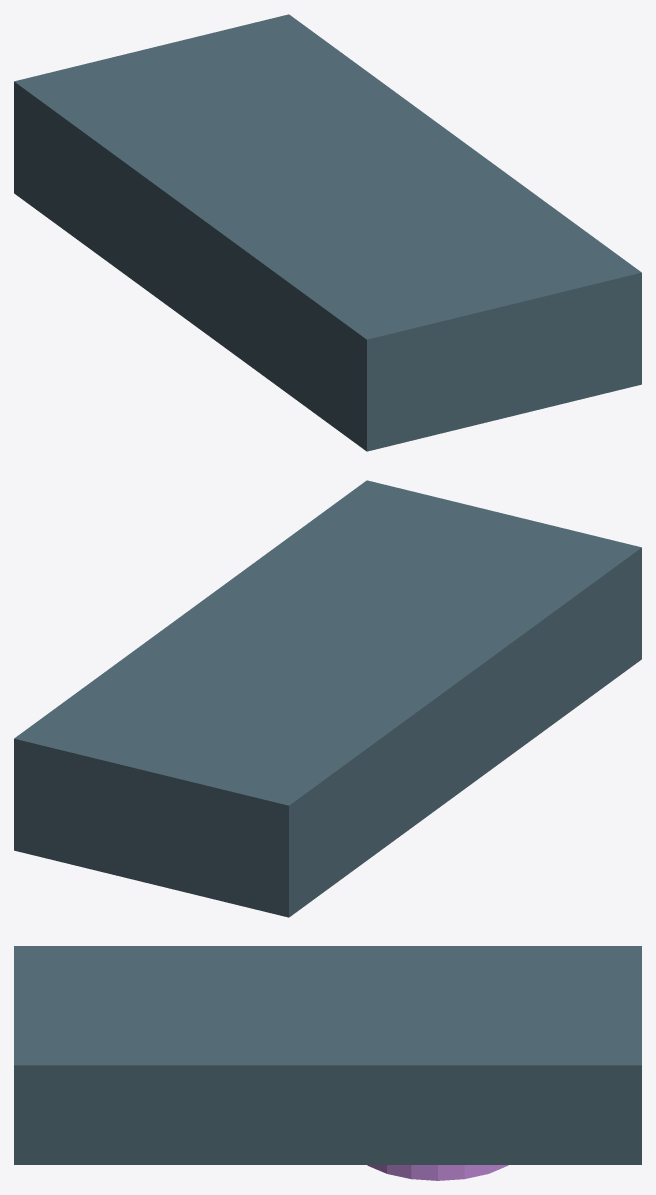
The model's file is video-doorbell.glb.
The picture shows the model from 3 angles, top to bottom: view 1: azimuth 30°, elevation 25°; view 2: azimuth 150°, elevation 25°; view 3: azimuth 270°, elevation 25°; orthographic projection. The views are drawn at different scales.
Visible parts, largest first — view 1: world; view 2: world; view 3: world.
Part boxes in pixels (box(x1,y1,x2,y2)): world: box(14, 14, 641, 451); world: box(14, 480, 641, 917); world: box(14, 946, 641, 1180).
Bounding box in the file's own units: 0.18 × 0.0975 × 0.4.
